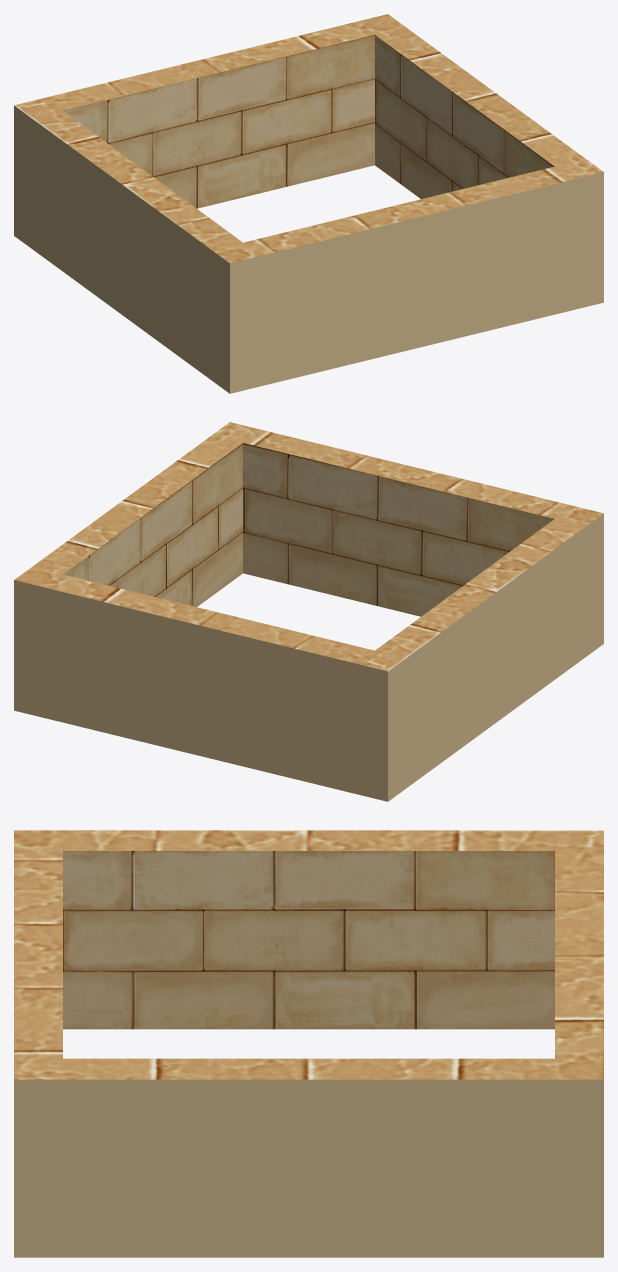
The model's file is Trap_1.dae.
3 renders of one model, top to bottom at view 1: azimuth 30°, elevation 25°; view 2: azimuth 150°, elevation 25°; view 3: azimuth 270°, elevation 25°, orthographic. The views are drawn at different scales.
Visible parts, largest first — view 1: pCube1; view 2: pCube1; view 3: pCube1.
Part boxes in pixels (x1,y1,x2,y2): pCube1: [14, 14, 603, 393]; pCube1: [14, 422, 603, 801]; pCube1: [14, 830, 603, 1257].
Size of the model in its own units: 3 by 1 by 3.
